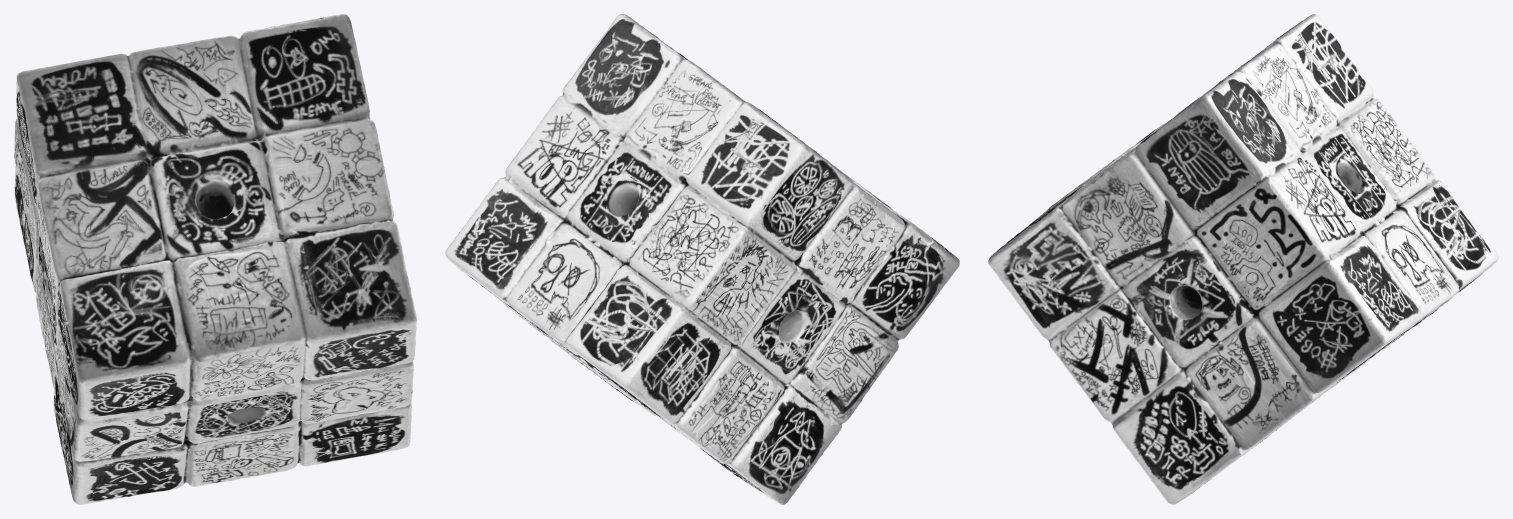
Rendered from rubikcompress.glb.
3 renders of one model, left to right at view 1: azimuth 30°, elevation 25°; view 2: azimuth 150°, elevation 25°; view 3: azimuth 270°, elevation 25°, orthographic. The views are drawn at different scales.
Parts seen in each view (by area): view 1: 3DModel; view 2: 3DModel; view 3: 3DModel.
Boxes of the visible parts, x1,y1,x2,y2 form: 3DModel: [14, 14, 416, 504]; 3DModel: [445, 14, 959, 504]; 3DModel: [988, 14, 1498, 504].
Bounding box in the file's own units: 0.6167 × 0.651 × 0.7122.
Materials: 1 (1 with a texture image).
